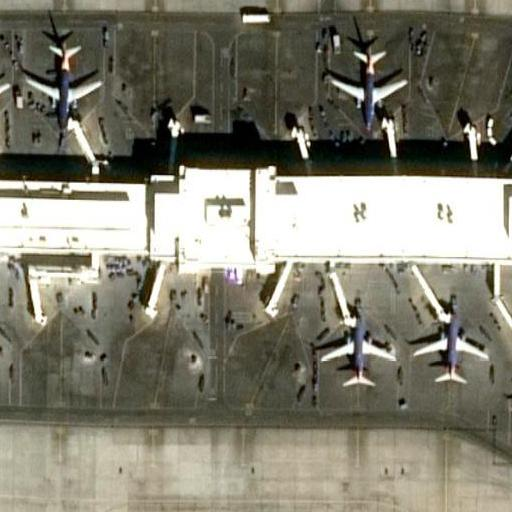Aircraft: (406, 291, 491, 389), (22, 33, 102, 131), (321, 39, 407, 126), (320, 299, 392, 390), (503, 32, 512, 135), (0, 39, 9, 133), (506, 345, 512, 438)
